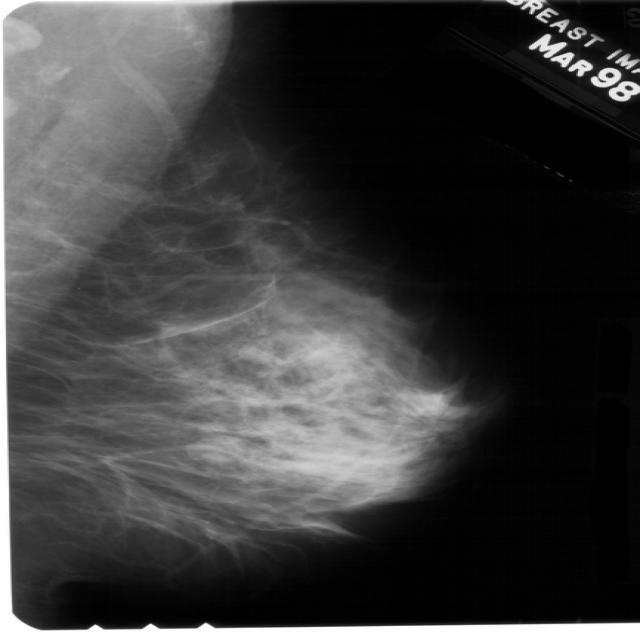tumour: (183, 436, 240, 464)
